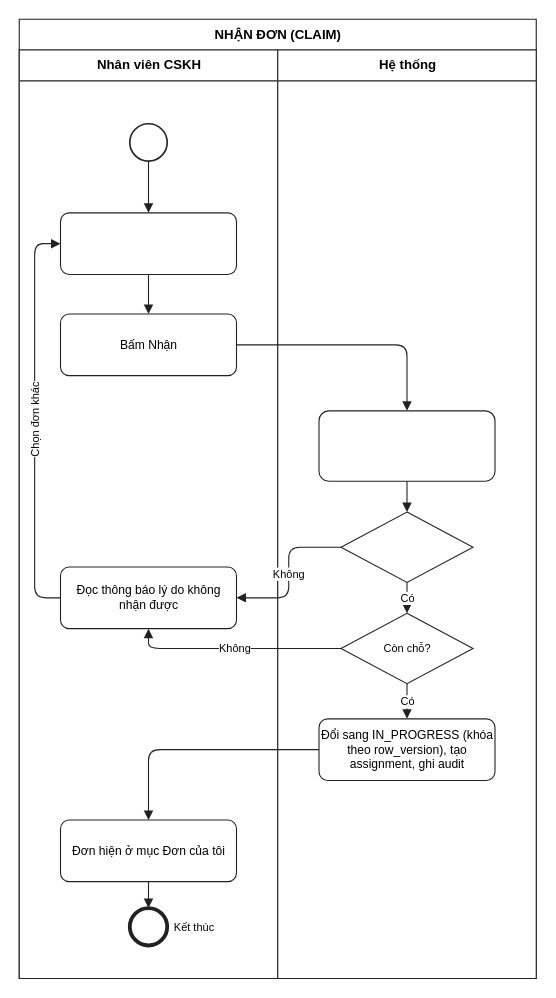
The diagram is 556 pixels wide and 998 high, and some of its shapes have lost their labels. The shapes that lost their labels are listed below. From the top down, each one's centre as x and y in pixels, then its label:
point (148, 141): Bắt đầu
point (148, 243): Mở Risk Queue, lọc và chọn đơn cần xử lý
point (406, 445): Kiểm tra: PENDING, chưa ai giữ, không phải HIGH, còn capacity
point (406, 546): Đơn được nhận?
